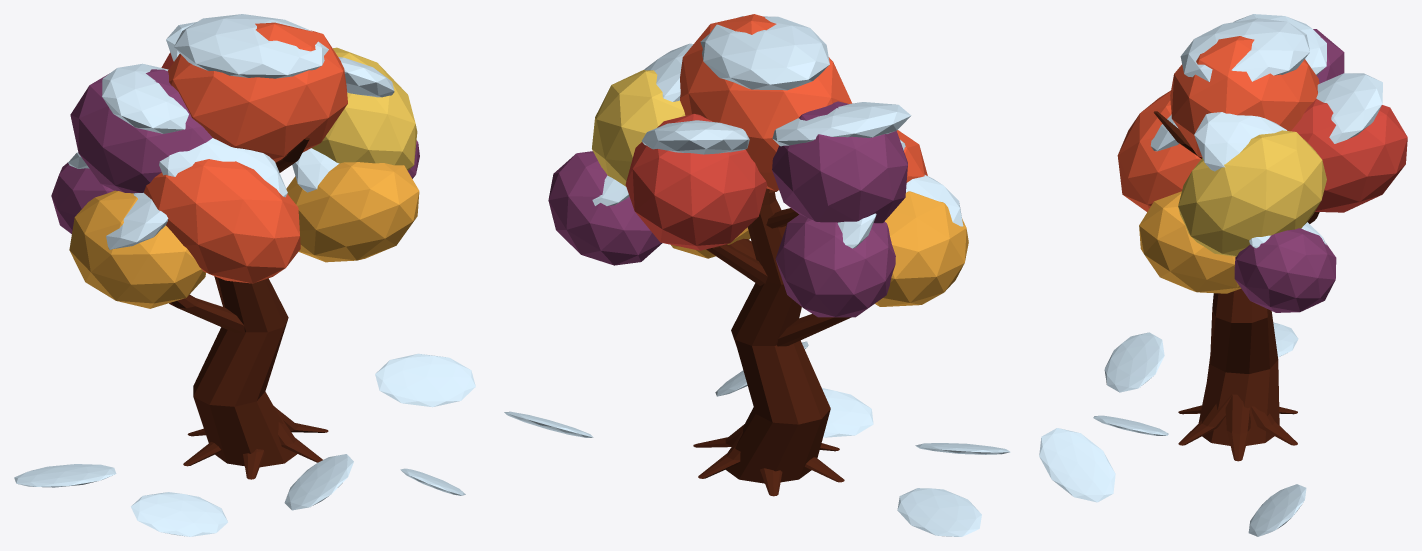
File: arbre.glb
3 views of the same model, side by side, from view 1: azimuth 30°, elevation 25°; view 2: azimuth 150°, elevation 25°; view 3: azimuth 270°, elevation 25° (orthographic). The views are drawn at different scales.
Parts seen in each view (by area): view 1: Tree, Snow, Tree_Trunk; view 2: Tree, Snow, Tree_Trunk; view 3: Tree, Snow, Tree_Trunk.
Part boxes in pixels (x1,y1,x2,y2): Tree: (51,22,419,479); Snow: (14,14,475,536); Tree_Trunk: (193,276,297,467); Tree: (548,14,968,496); Snow: (504,16,1010,536); Tree_Trunk: (726,188,830,483); Tree: (1117,29,1407,461); Snow: (1039,14,1382,536); Tree_Trunk: (1198,288,1279,445).
Size of the model in its own units: 6.94 by 6.36 by 5.16.
